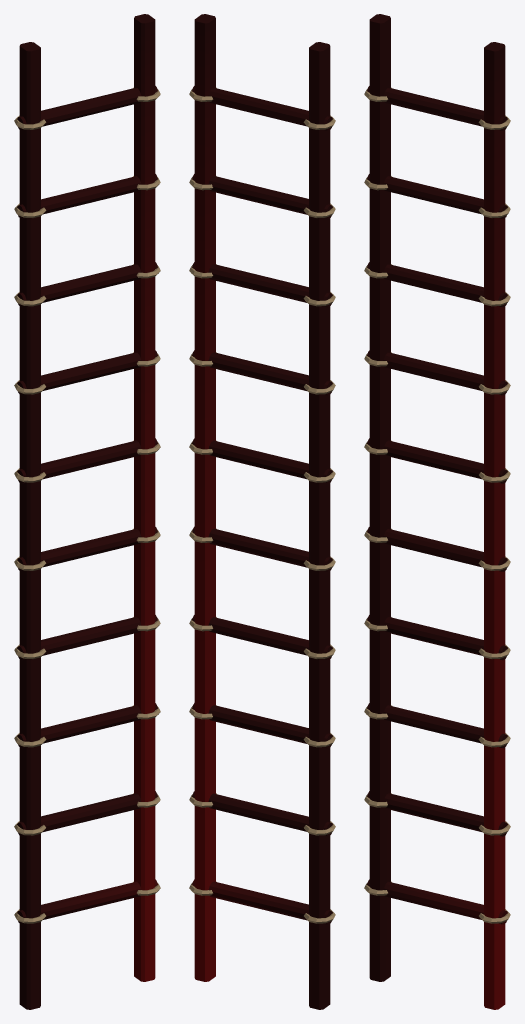
File: SilverbrookPropLadder.fbx
The picture shows the model from 3 angles, left to right: view 1: azimuth 30°, elevation 25°; view 2: azimuth 150°, elevation 25°; view 3: azimuth 330°, elevation 25°; orthographic projection.
Parts seen in each view (by area): view 1: SM_SBLadder_Wood, SM_SBLadder_Lashing; view 2: SM_SBLadder_Wood, SM_SBLadder_Lashing; view 3: SM_SBLadder_Wood, SM_SBLadder_Lashing.
Part boxes in pixels (x1,y1,x2,y2): SM_SBLadder_Wood: (17,14,157,1009); SM_SBLadder_Lashing: (14,87,160,923); SM_SBLadder_Wood: (192,14,332,1009); SM_SBLadder_Lashing: (189,87,335,923); SM_SBLadder_Wood: (367,14,507,1009); SM_SBLadder_Lashing: (364,87,510,923).
Bounding box in the file's own units: 49.8 × 320 × 9.32.
